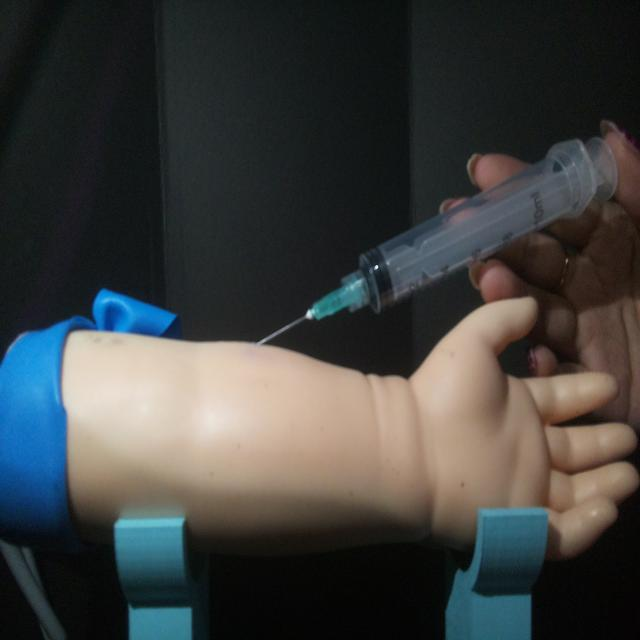26deg: (250, 130, 620, 350)
